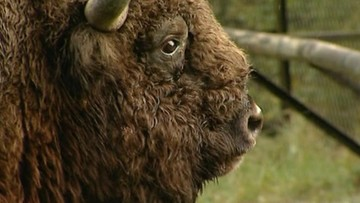zubr: (1, 1, 316, 201)
